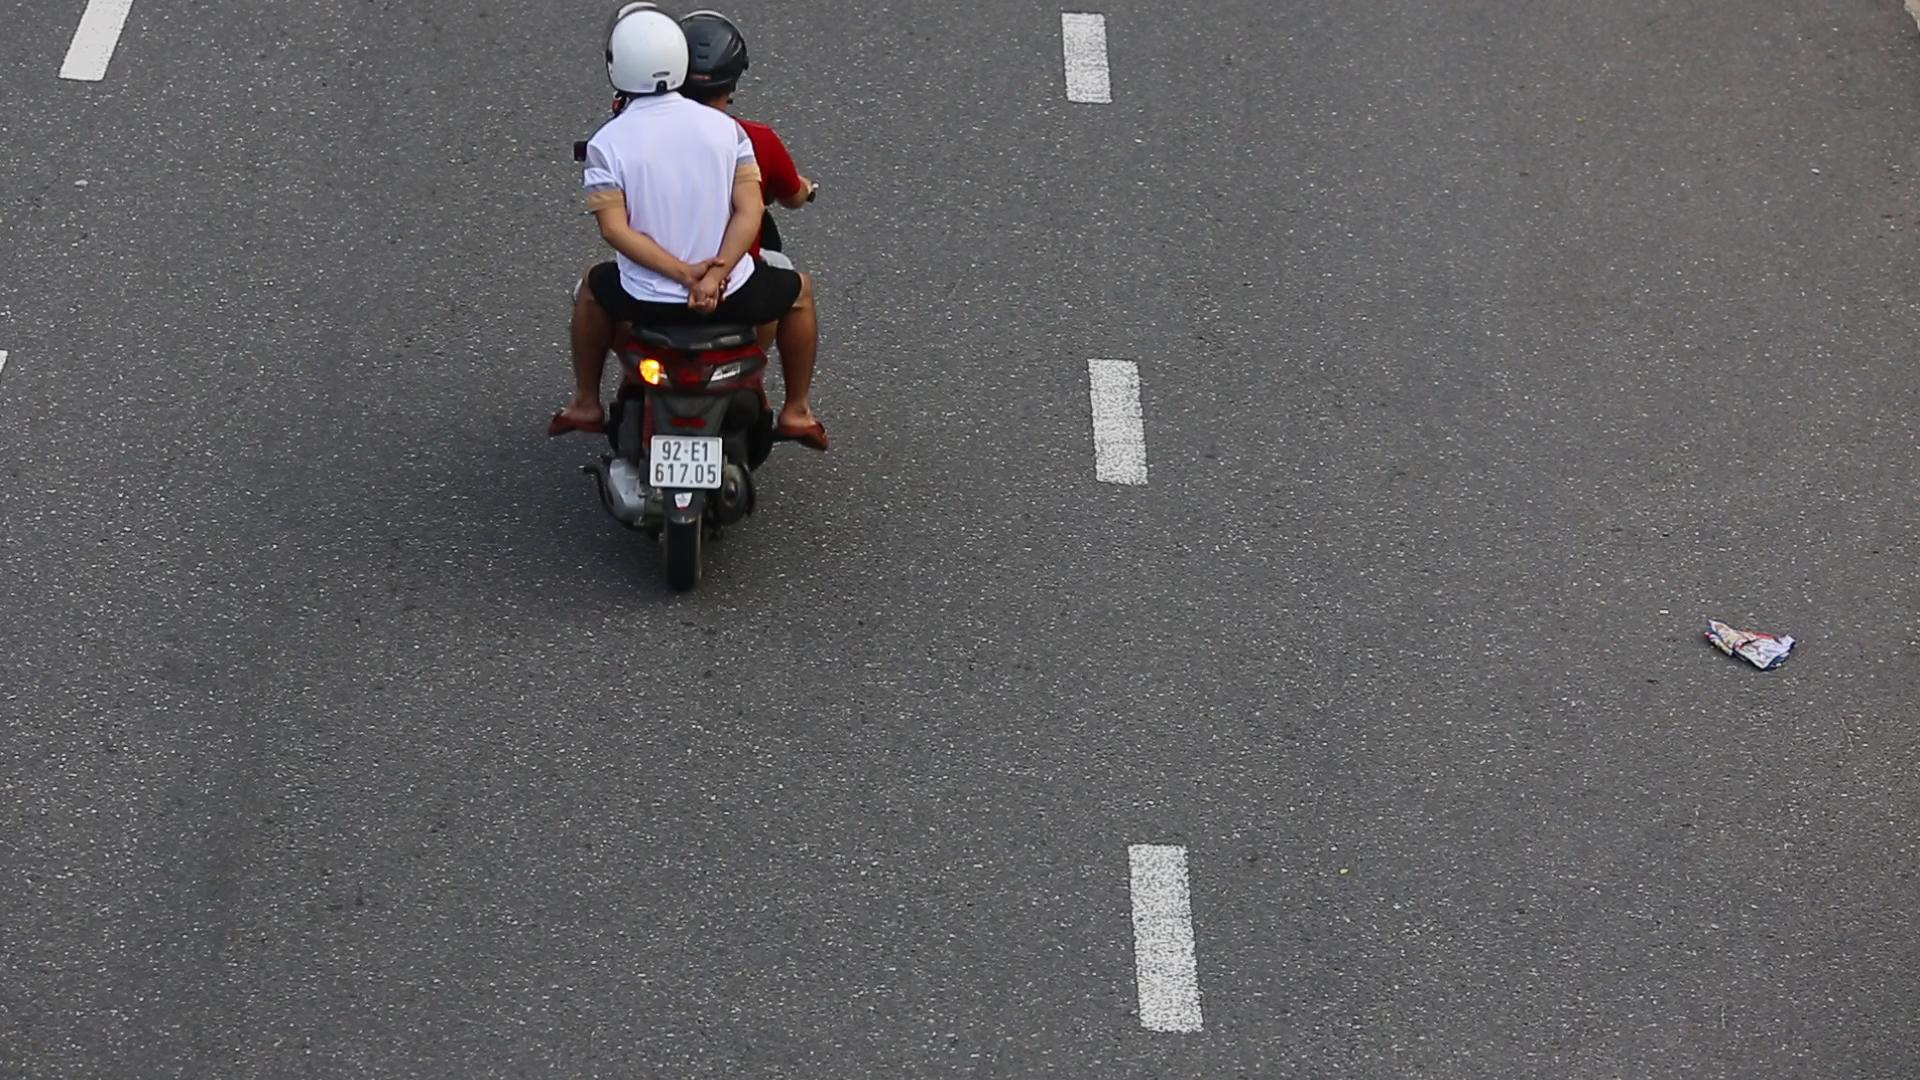motobike: (546, 7, 843, 603)
